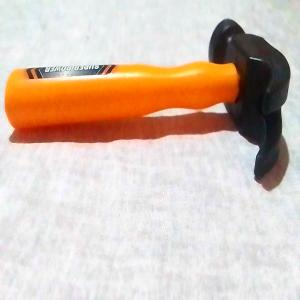martelo: (2, 17, 292, 183)
